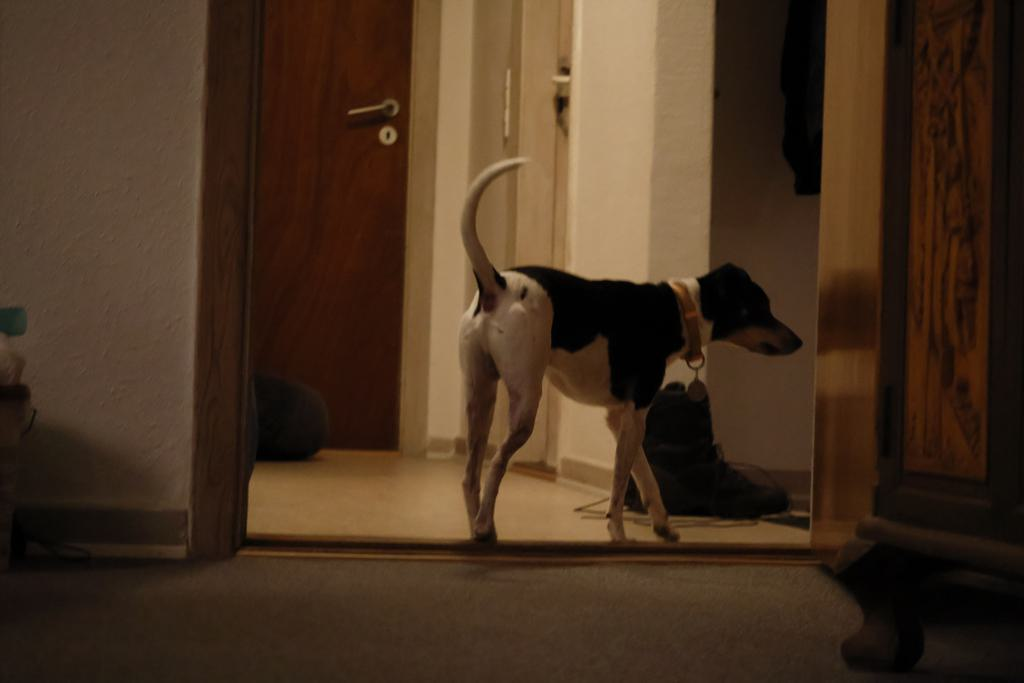Dog: (448, 153, 811, 548)
